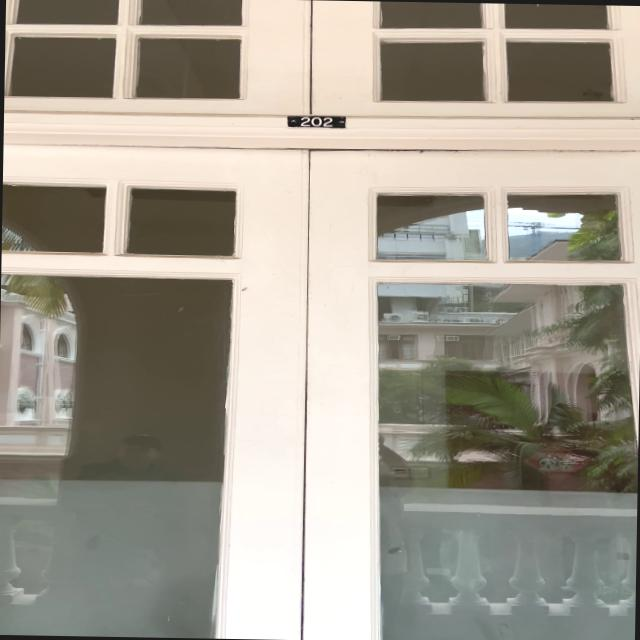room202: (282, 111, 358, 129)
